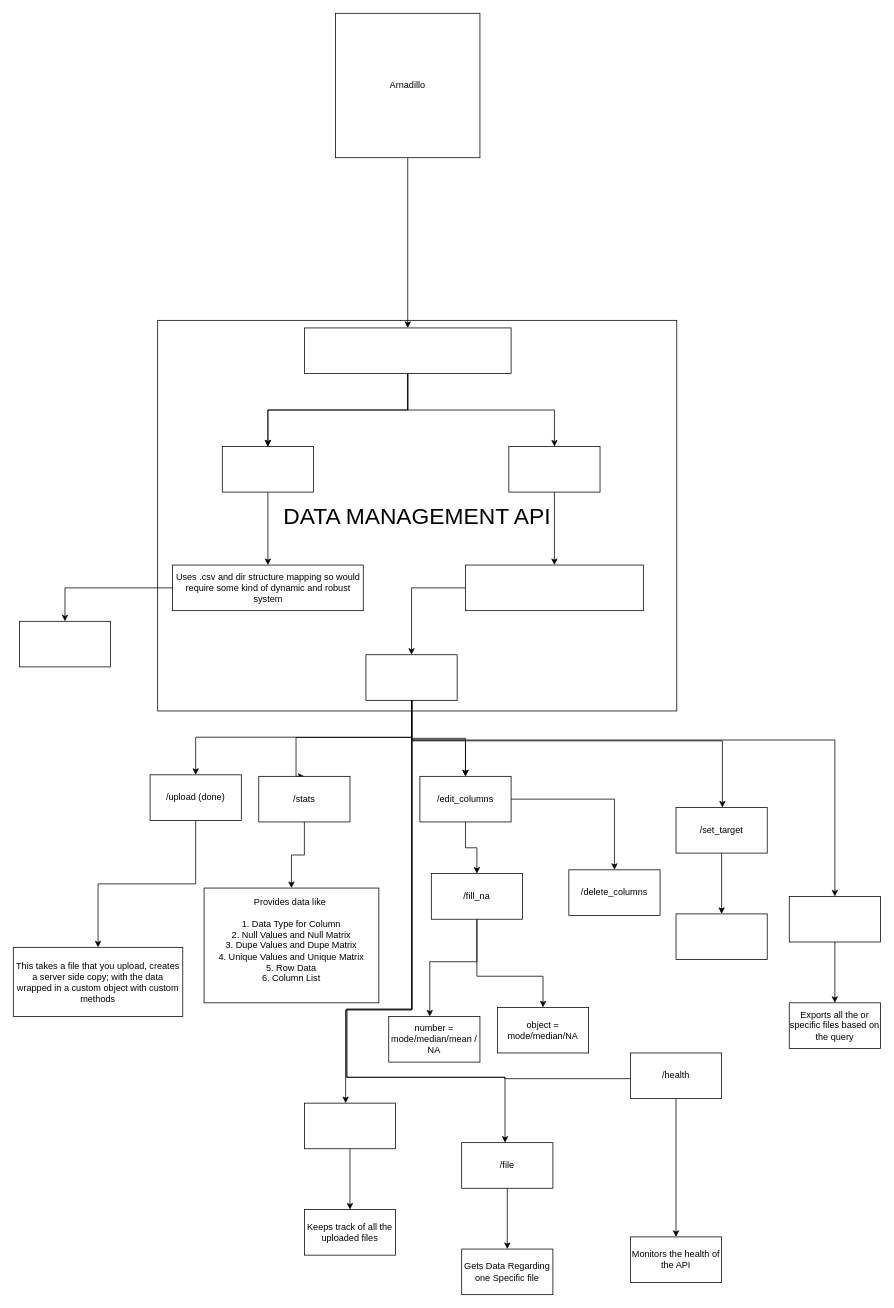
Image size: 894x1308. Some labels were removed from this diagram. The shapes that lost their labels are listed below. From the top down, each one's centre as x and y in pixels, then its label:
At [407,350]: "Layer 1 -- Data Loading Layer (Current CSV's)".
At [268,469]: "Image Data".
At [554,469]: "Tabular Data".
At [554,587]: "Only source is .csv and related file formats".
At [65,644]: "Working on It......".
At [411,677]: "LOADS THE DATA".
At [721,936]: "sets target variable for the dataset".
At [834,919]: "/export".
At [350,1125]: "/files".
